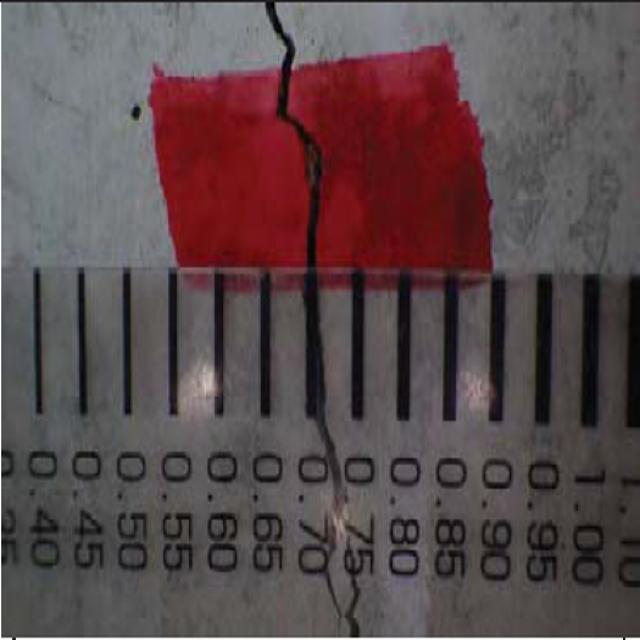crack: (257, 13, 379, 627)
